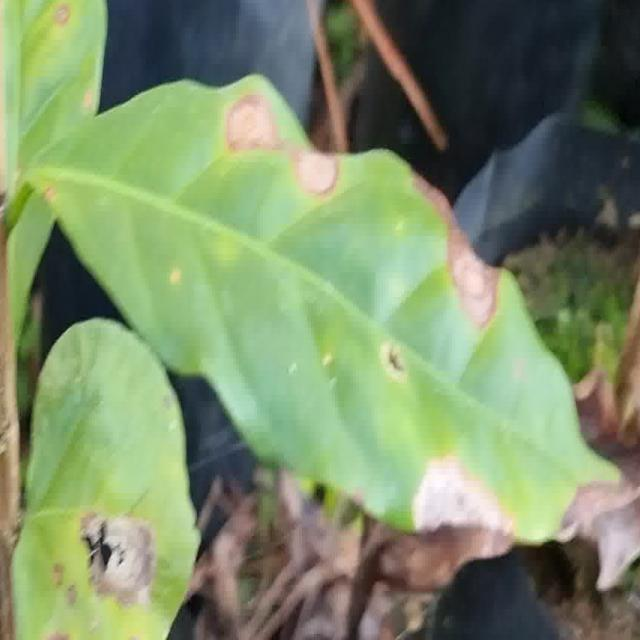leaves: (4, 0, 640, 640), (12, 319, 198, 640)
